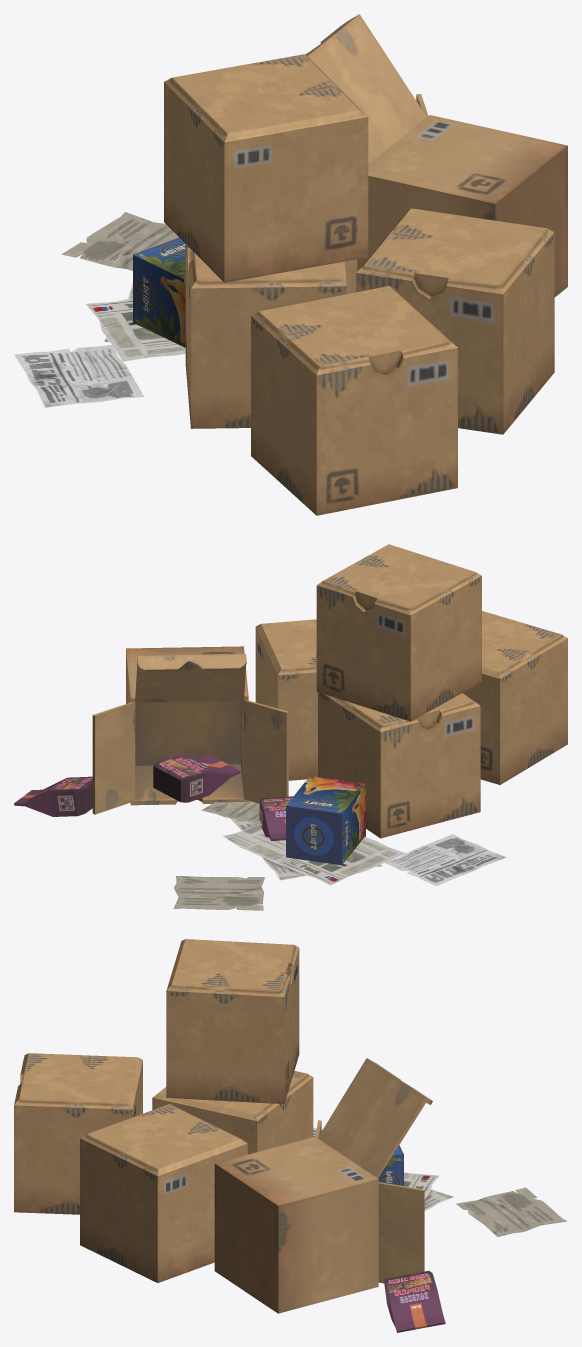
Rendered from P_NEWMaket01_after01.obj.
3 views of the same model, one above another, from view 1: azimuth 30°, elevation 25°; view 2: azimuth 150°, elevation 25°; view 3: azimuth 270°, elevation 25° (orthographic). The views are drawn at different scales.
Bounding box in the file's own units: 2.49 × 1.29 × 2.79.
Materials: 14 (14 with a texture image).
